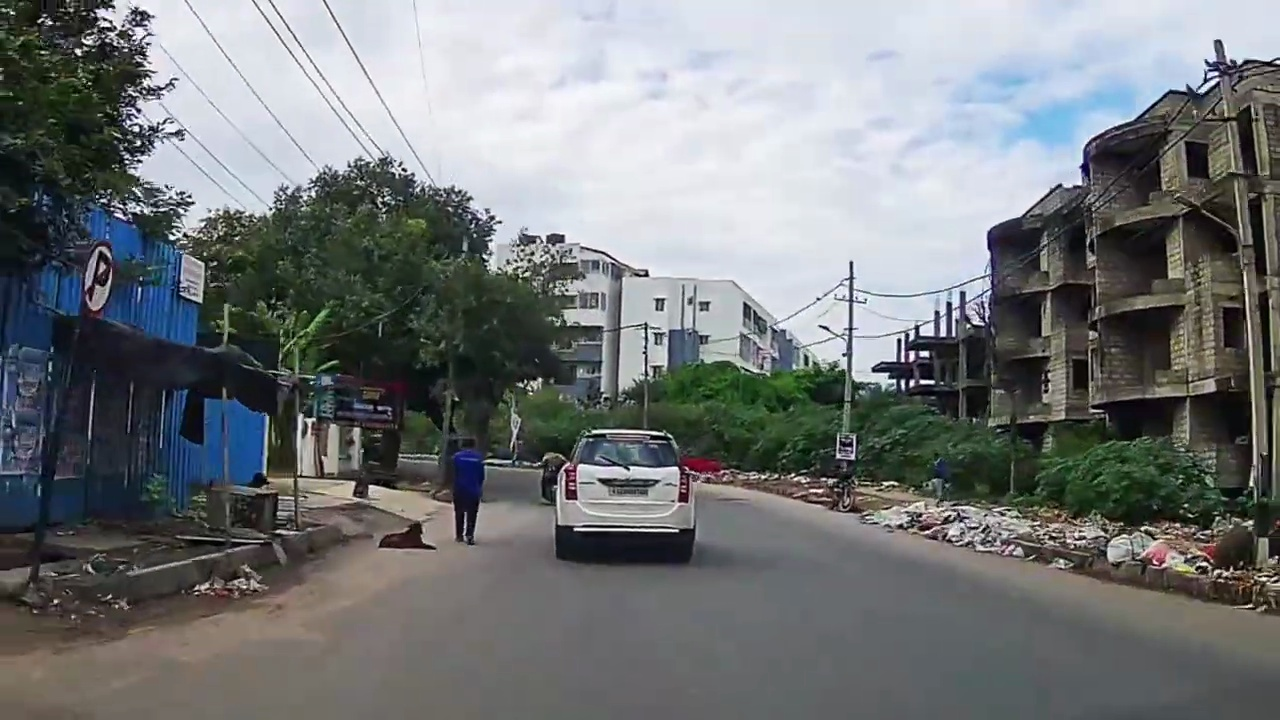garbage: (884, 490, 1032, 564), (1094, 532, 1198, 572)
